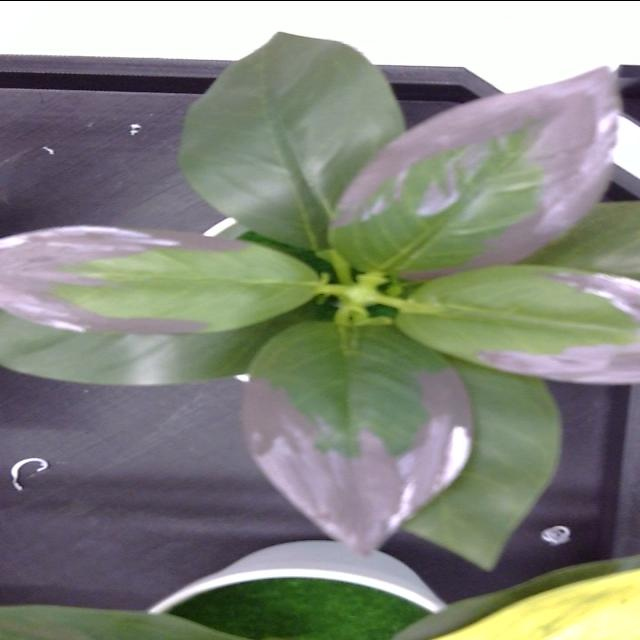Brown: (331, 66, 620, 279), (244, 320, 474, 551), (0, 225, 320, 332), (396, 265, 639, 382)
Green: (180, 32, 404, 249), (0, 308, 289, 384)
